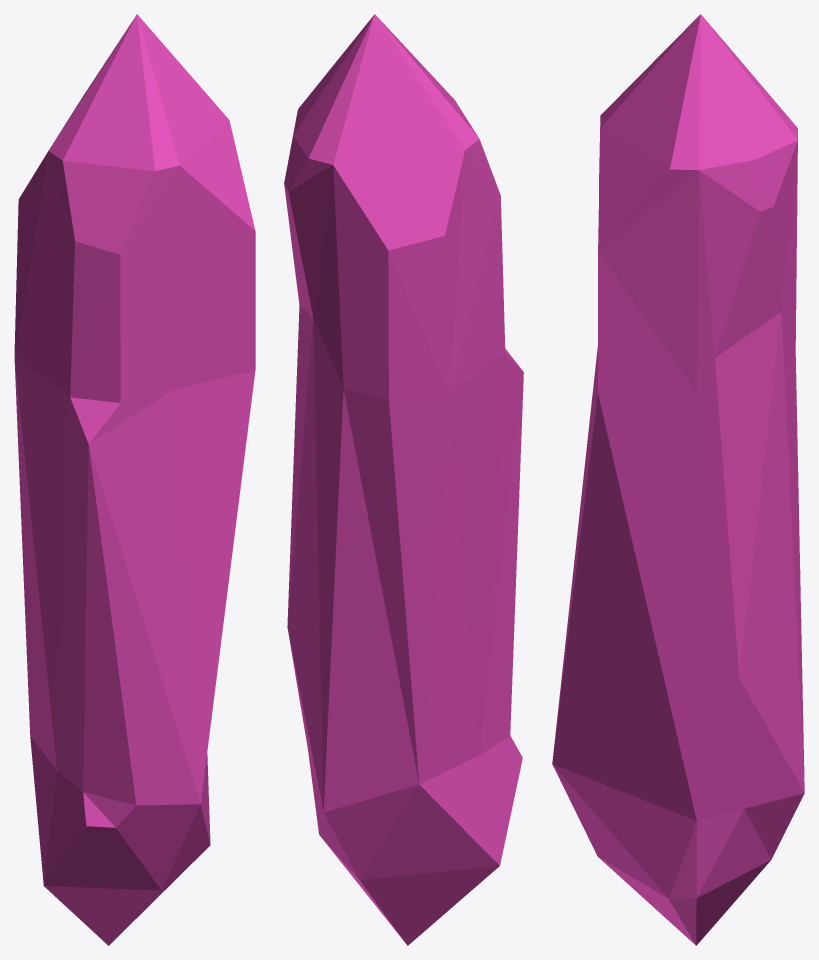
The model's file is SM_Crystal_D.fbx.
3 views of the same model, side by side, from view 1: azimuth 30°, elevation 25°; view 2: azimuth 150°, elevation 25°; view 3: azimuth 270°, elevation 25° (orthographic). The views are drawn at different scales.
Visible parts, largest first — view 1: SM_Crystal_D; view 2: SM_Crystal_D; view 3: SM_Crystal_D.
Part boxes in pixels (<box>): SM_Crystal_D: <box>14,14,255,945</box>; SM_Crystal_D: <box>284,14,523,945</box>; SM_Crystal_D: <box>552,14,804,945</box>.
Bounding box in the file's own units: 15.61 × 73.84 × 17.83.
